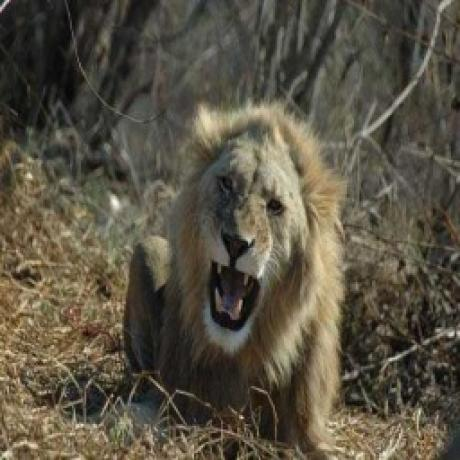Lion: (118, 95, 348, 452)
